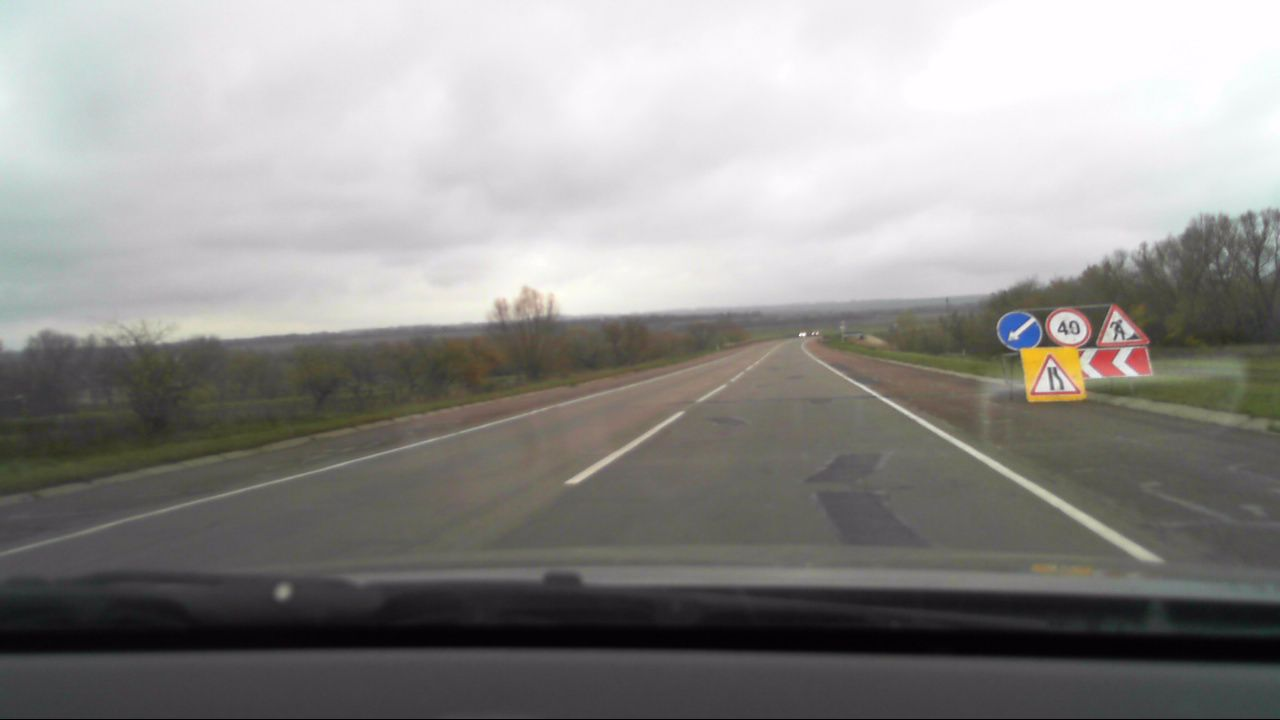speed_warning_40: (1041, 306, 1090, 348)
